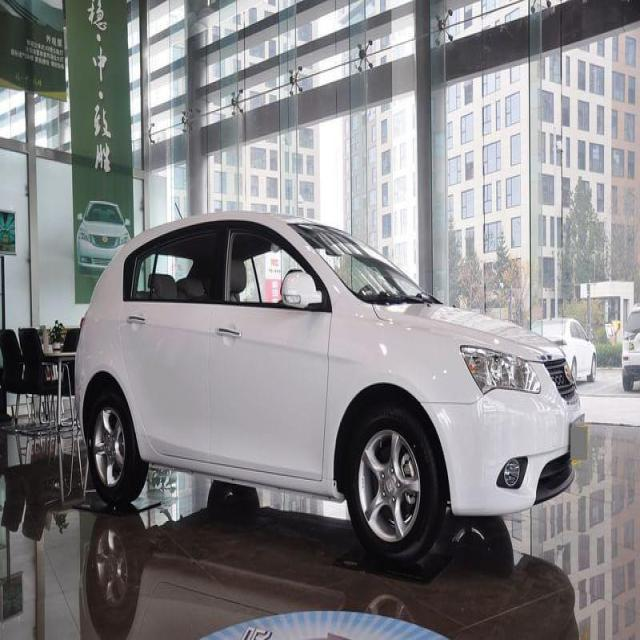door: (120, 221, 212, 465)
front_bumper: (420, 382, 586, 520)
front_glass: (287, 221, 442, 307)
front_right_side_door: (206, 215, 335, 486)
front_right_side_light: (458, 344, 543, 399)
front_right_side_mirror: (280, 268, 324, 314)
wheel: (346, 405, 439, 559), (88, 389, 146, 506)
